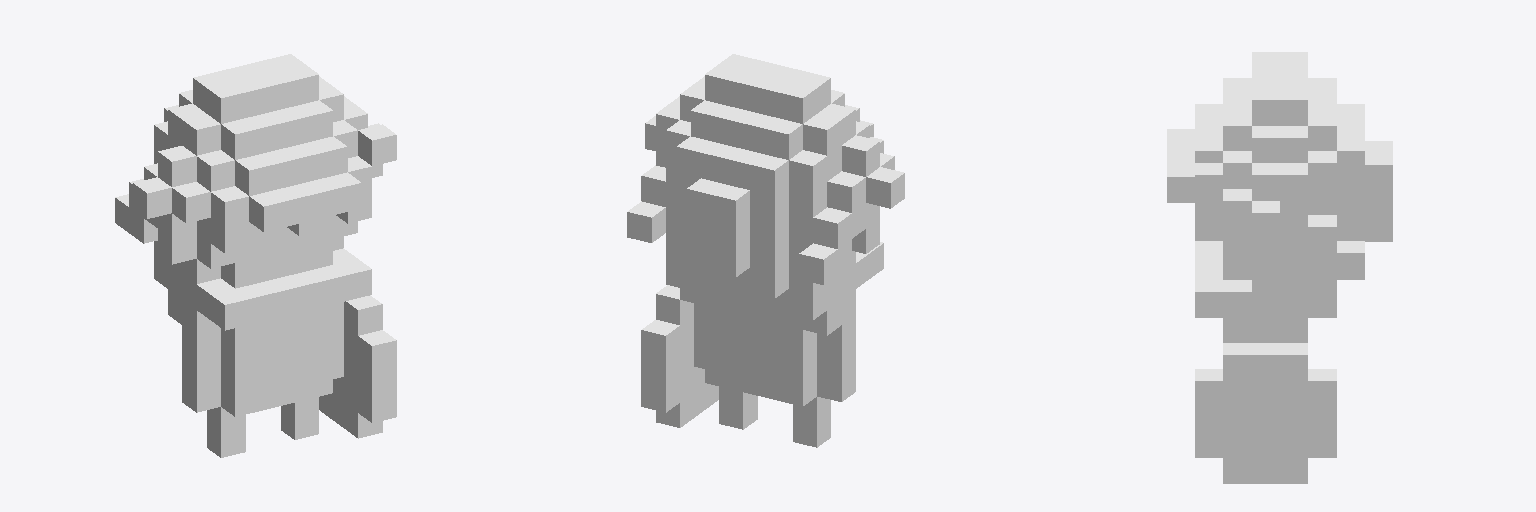
The model's file is chr_nosword.vox.obj.
The picture shows the model from 3 angles: view 1: azimuth 30°, elevation 25°; view 2: azimuth 150°, elevation 25°; view 3: azimuth 270°, elevation 25°; orthographic projection.
Visible parts, largest first — view 1: object 1; view 2: object 1; view 3: object 1.
Part boxes in pixels (x1,y1,x2,y2): object 1: (115,54,396,457); object 1: (627,54,904,447); object 1: (1167,52,1392,483).
Size of the model in its own units: 1 by 1.4 by 0.8.